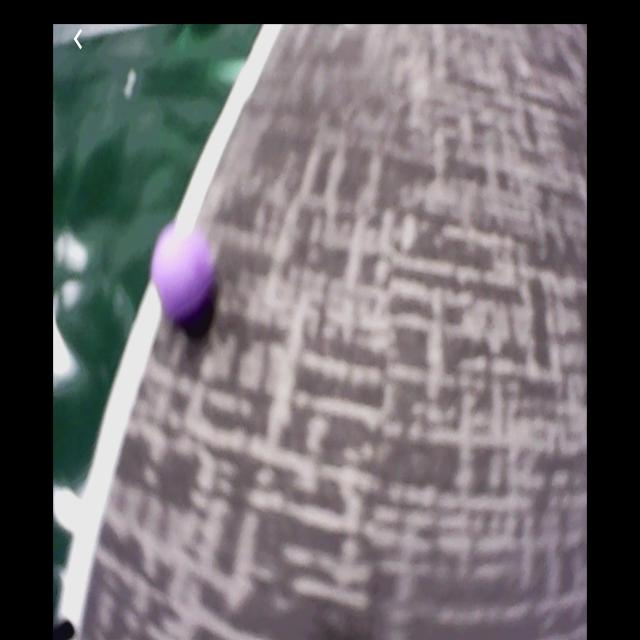ball: (153, 228, 213, 320)
